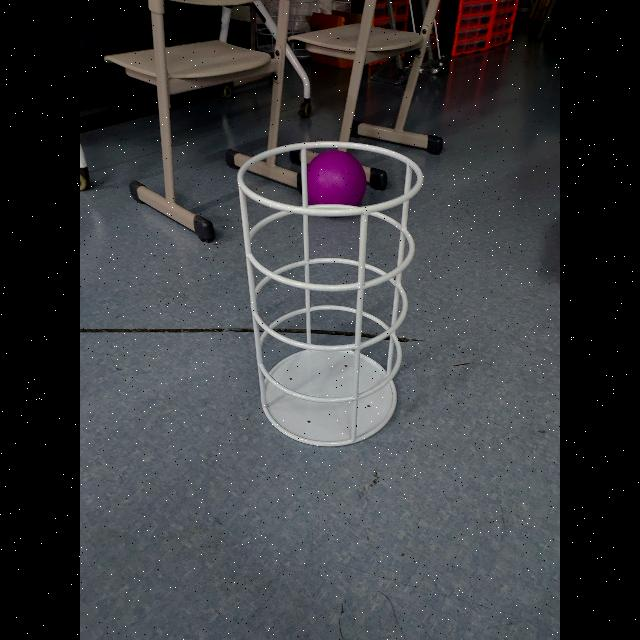S: (234, 140, 426, 450)
